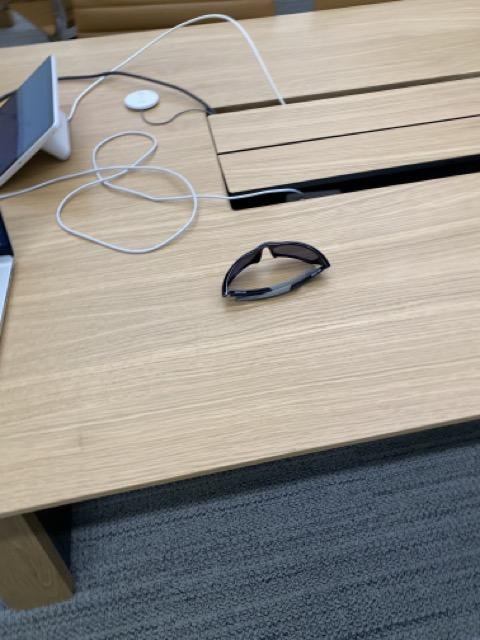Sunglasses: (223, 241, 331, 303)
